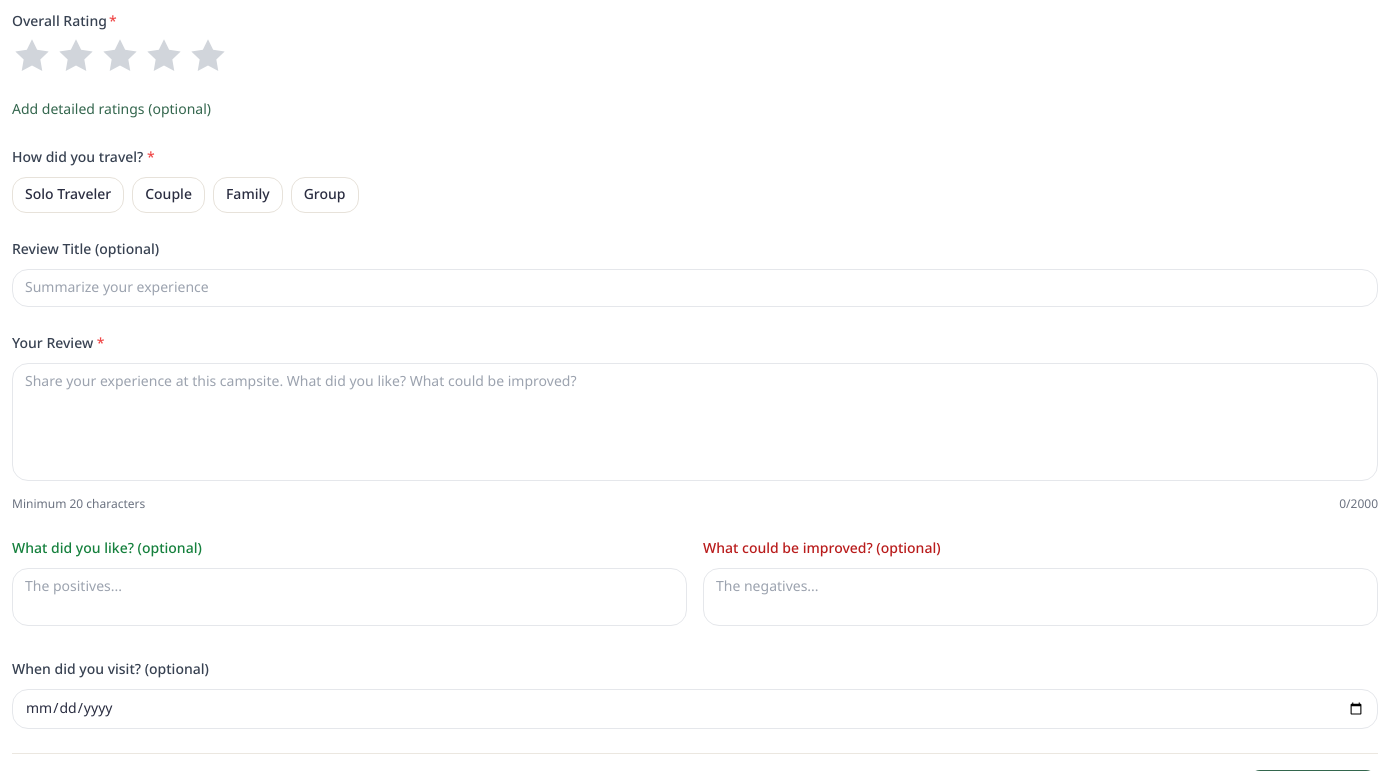
Test: WriteReviewForm › Rendering › shows sub-ratings when toggle is clicked
Click the button "Add detailed ratings (optional)" at (112, 110), box top-left (12, 100), bottom-right (211, 120)
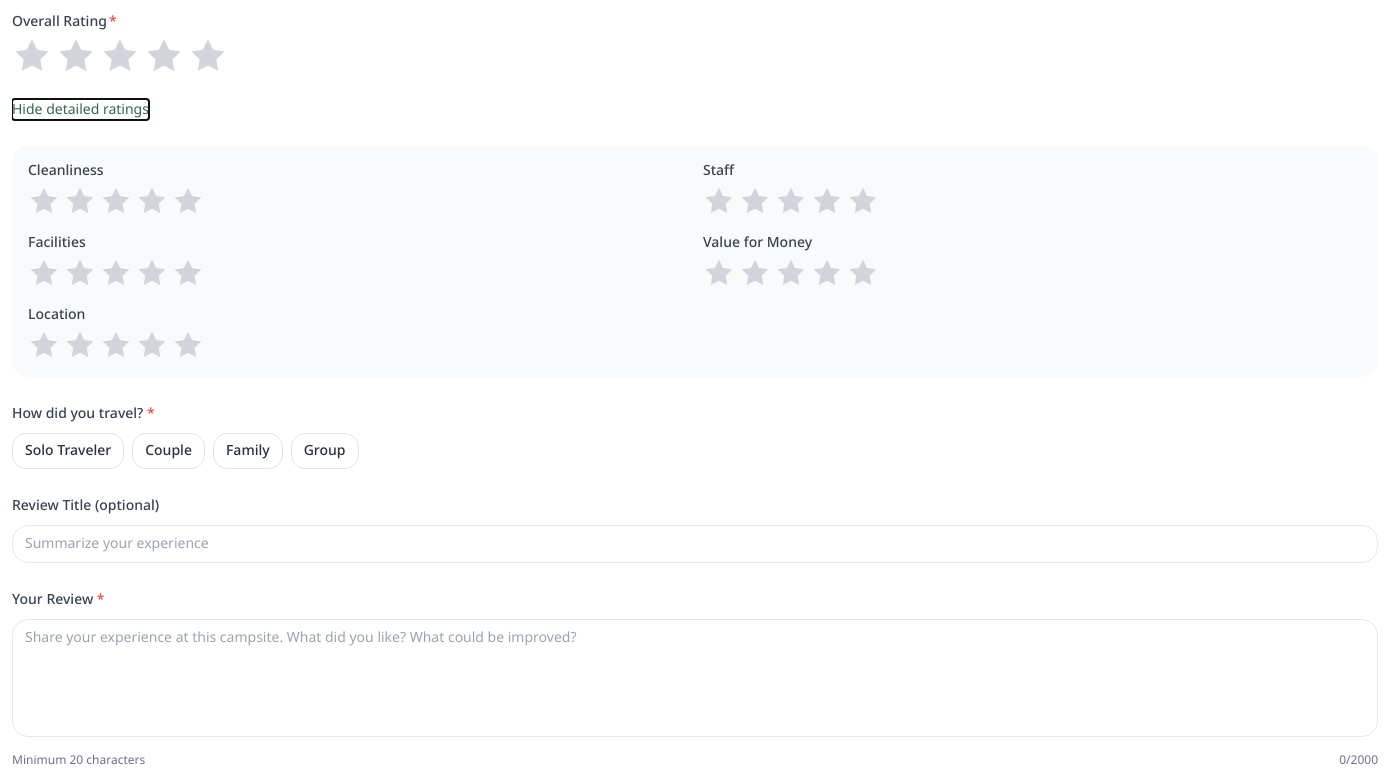
expect the text "Cleanliness" is shown: met, box top-left (28, 160), bottom-right (104, 181)
expect the text "Staff" is shown: met, box top-left (703, 160), bottom-right (734, 181)
expect the text "Facilities" is shown: met, box top-left (28, 232), bottom-right (86, 253)
